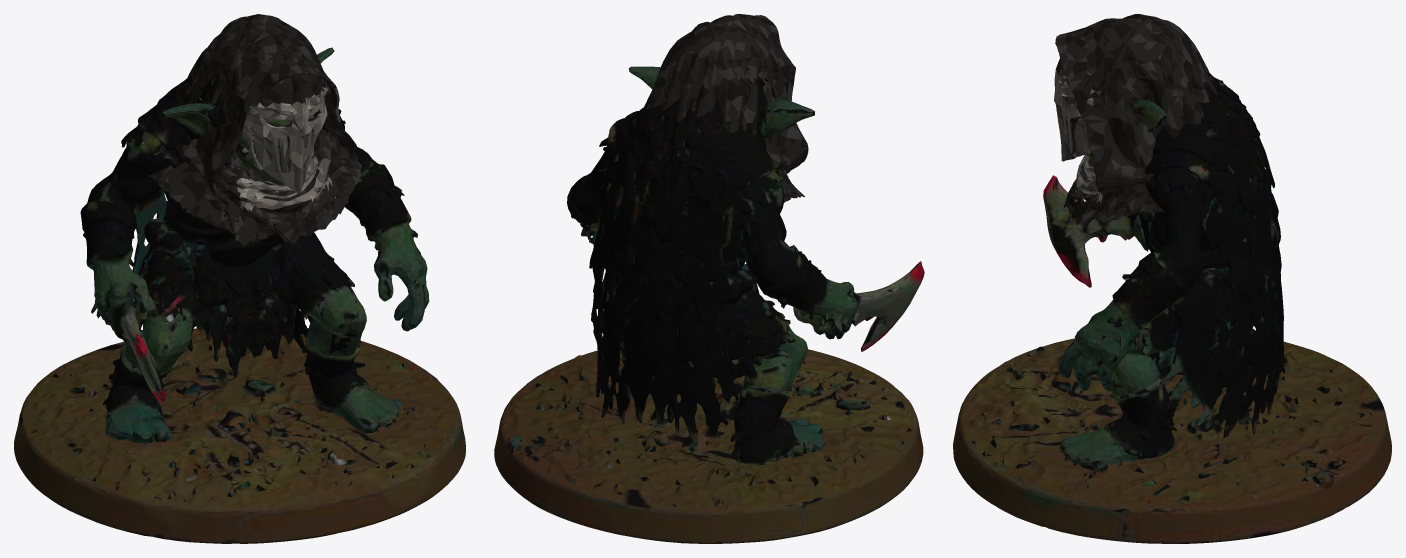
File: assassino_goblin.glb
3 views of the same model, side by side, from view 1: azimuth 30°, elevation 25°; view 2: azimuth 150°, elevation 25°; view 3: azimuth 270°, elevation 25° (orthographic). The views are drawn at different scales.
Parts seen in each view (by area): view 1: tmpzil0guyd.ply, tmpnv9ue3be.ply.001; view 2: tmpzil0guyd.ply, tmpnv9ue3be.ply.001; view 3: tmpzil0guyd.ply, tmpnv9ue3be.ply.001.
Boxes of the visible parts, left/top/right/bottom form: tmpzil0guyd.ply: left=14, top=47, right=465, bottom=543; tmpnv9ue3be.ply.001: left=148, top=14, right=361, bottom=246; tmpzil0guyd.ply: left=494, top=66, right=924, bottom=543; tmpnv9ue3be.ply.001: left=614, top=14, right=808, bottom=253; tmpzil0guyd.ply: left=953, top=72, right=1391, bottom=543; tmpnv9ue3be.ply.001: left=1054, top=14, right=1233, bottom=230.
Size of the model in its own units: 1.94 by 2.11 by 1.91.
7 materials, 1 textured.
